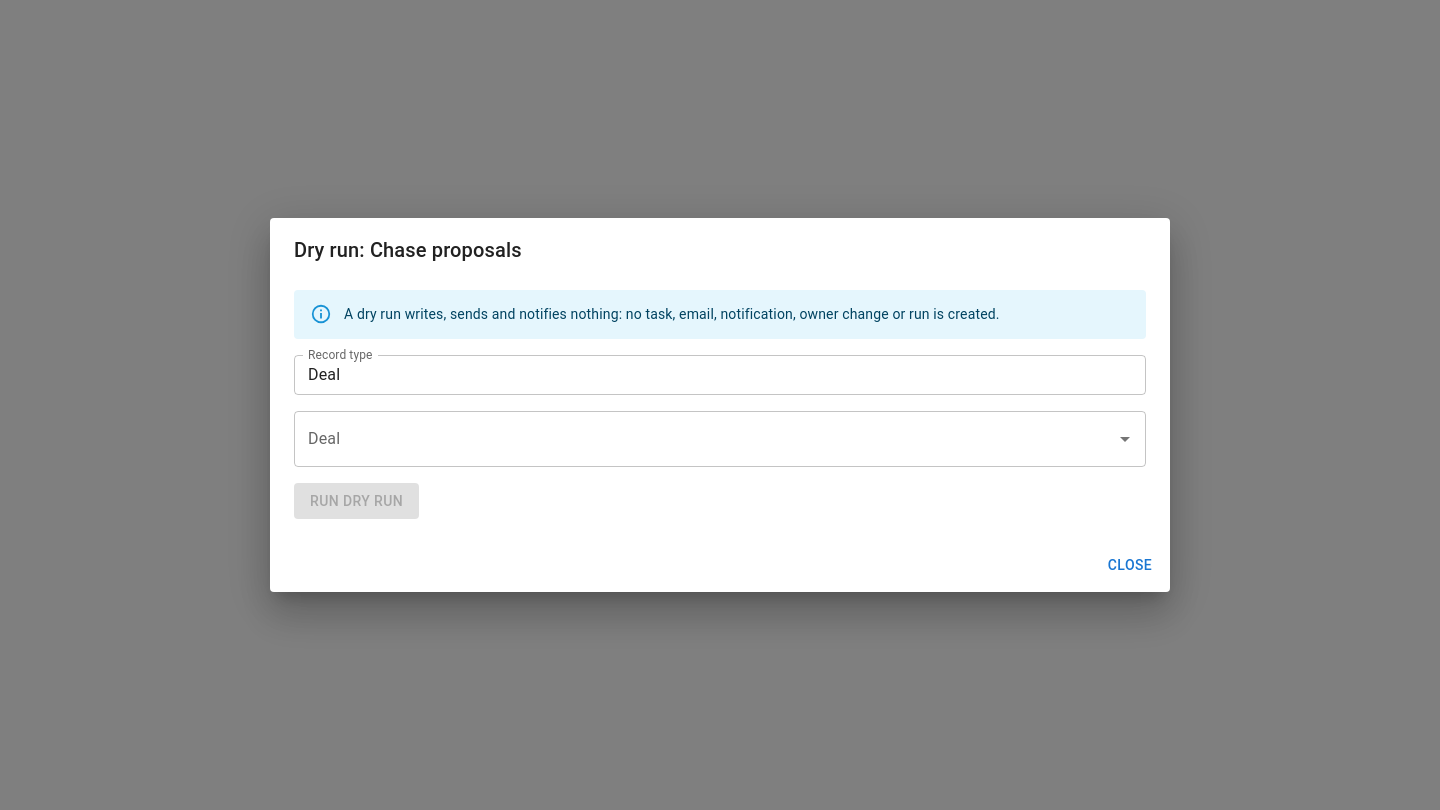
DryRunDialog › reports a failed record search instead of an empty list
Press the mouse on the dropdown labelled "Deal": (705,438) x1=303 y1=420 x2=1107 y2=458
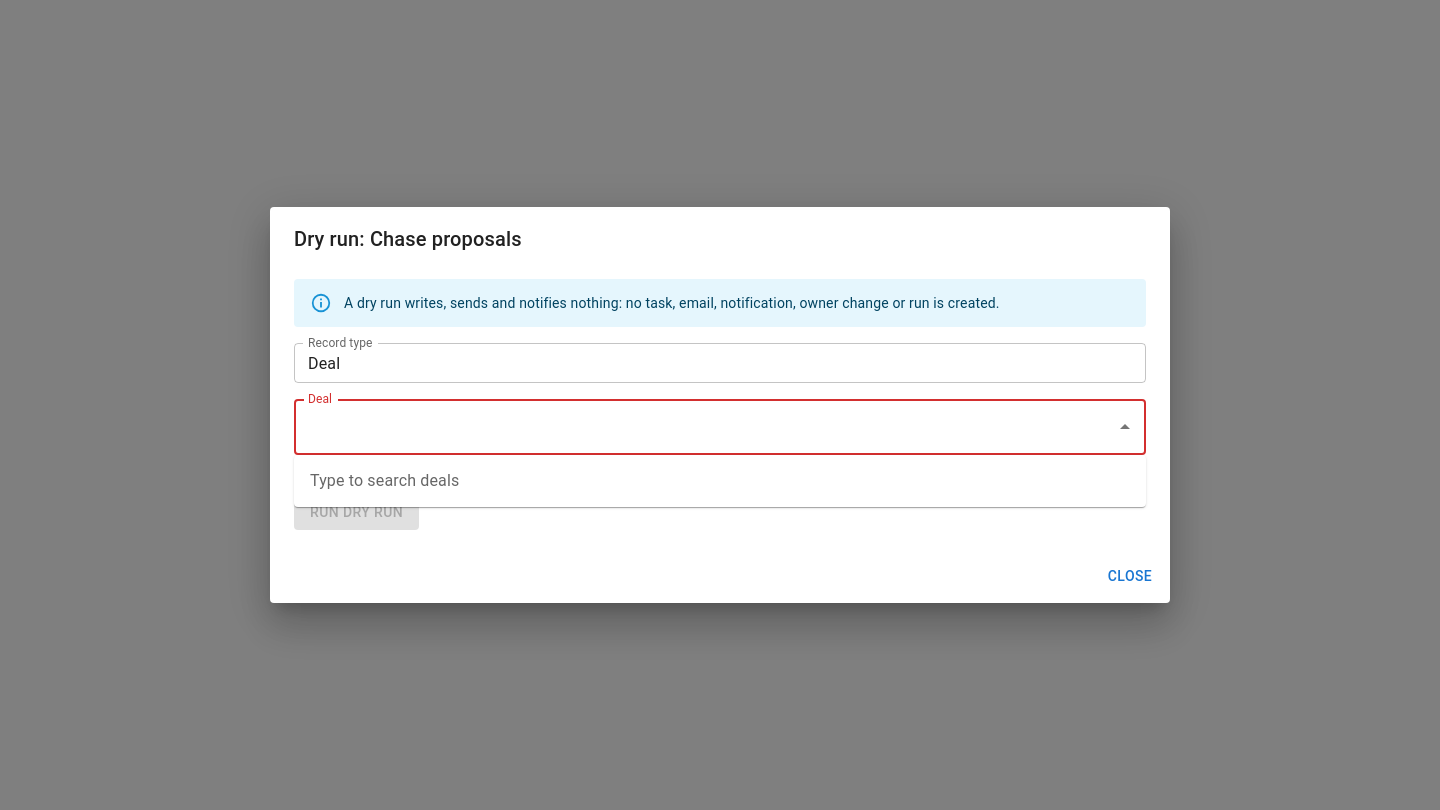
Result: the text "Records could not be loaded: Database unavailable" is shown at x1=308 y1=460 x2=599 y2=474
